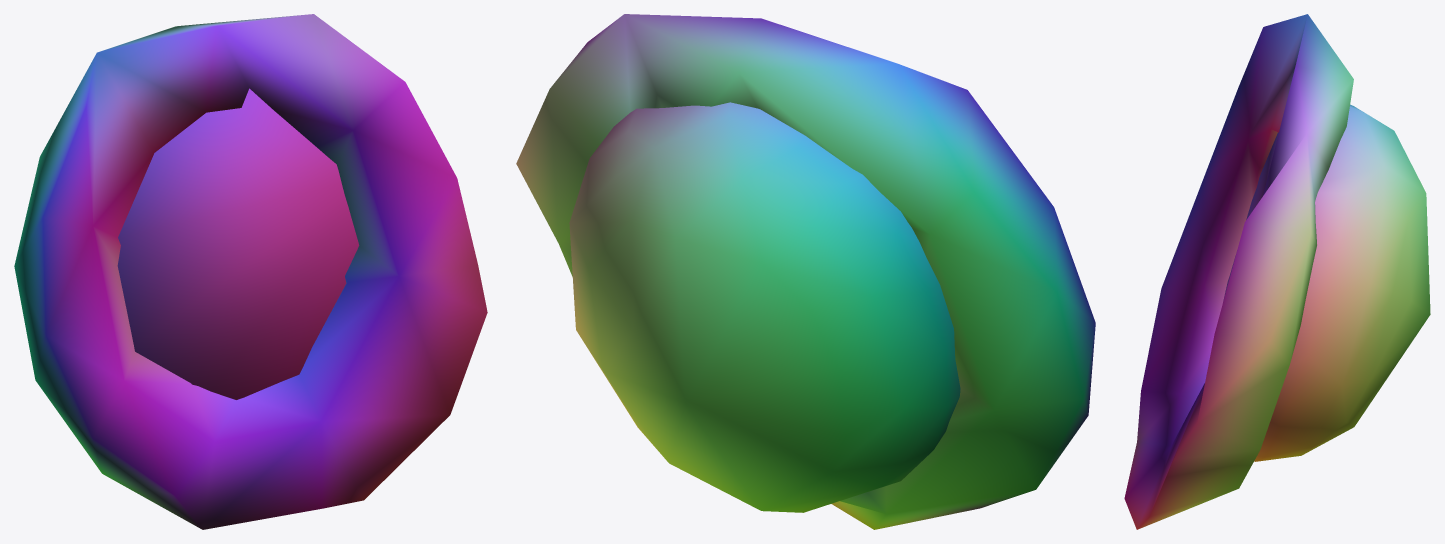
Rendered from SM_Mon_Unburied_Att_KettleHelm_LOD1.fbx.
3 views of the same model, side by side, from view 1: azimuth 30°, elevation 25°; view 2: azimuth 150°, elevation 25°; view 3: azimuth 270°, elevation 25° (orthographic). The views are drawn at different scales.
Visible parts, largest first — view 1: SM_Mon_Unburied_Att_KettleHelm_LOD1; view 2: SM_Mon_Unburied_Att_KettleHelm_LOD1; view 3: SM_Mon_Unburied_Att_KettleHelm_LOD1.
Boxes of the visible parts, left/top/right/bottom form: SM_Mon_Unburied_Att_KettleHelm_LOD1: left=14, top=14, right=487, bottom=529; SM_Mon_Unburied_Att_KettleHelm_LOD1: left=516, top=14, right=1095, bottom=529; SM_Mon_Unburied_Att_KettleHelm_LOD1: left=1124, top=14, right=1430, bottom=529.
Size of the model in its own units: 0.3614 by 0.3558 by 0.2234.
